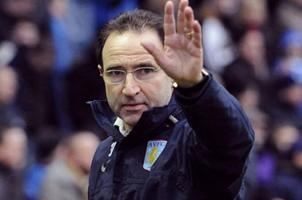person without safety: (76, 5, 246, 196)
